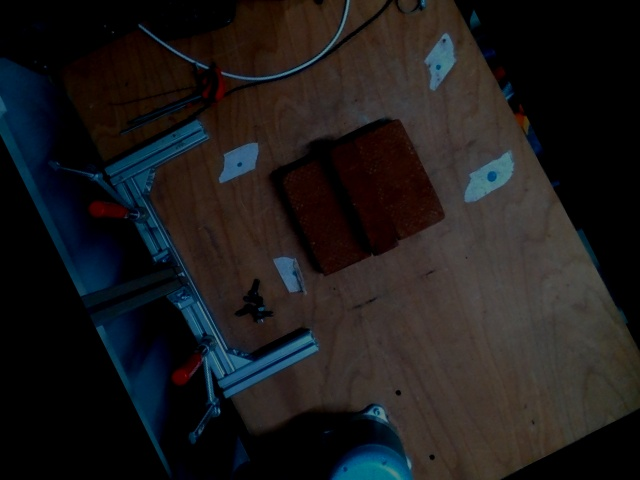brick: (278, 153, 370, 275), (354, 117, 446, 238)
brick-side: (328, 138, 402, 258)
